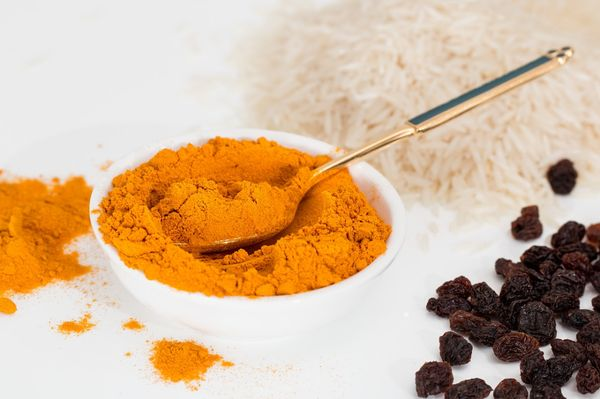salad: (311, 46, 571, 177), (405, 46, 574, 133)
sushi: (87, 131, 408, 341)
